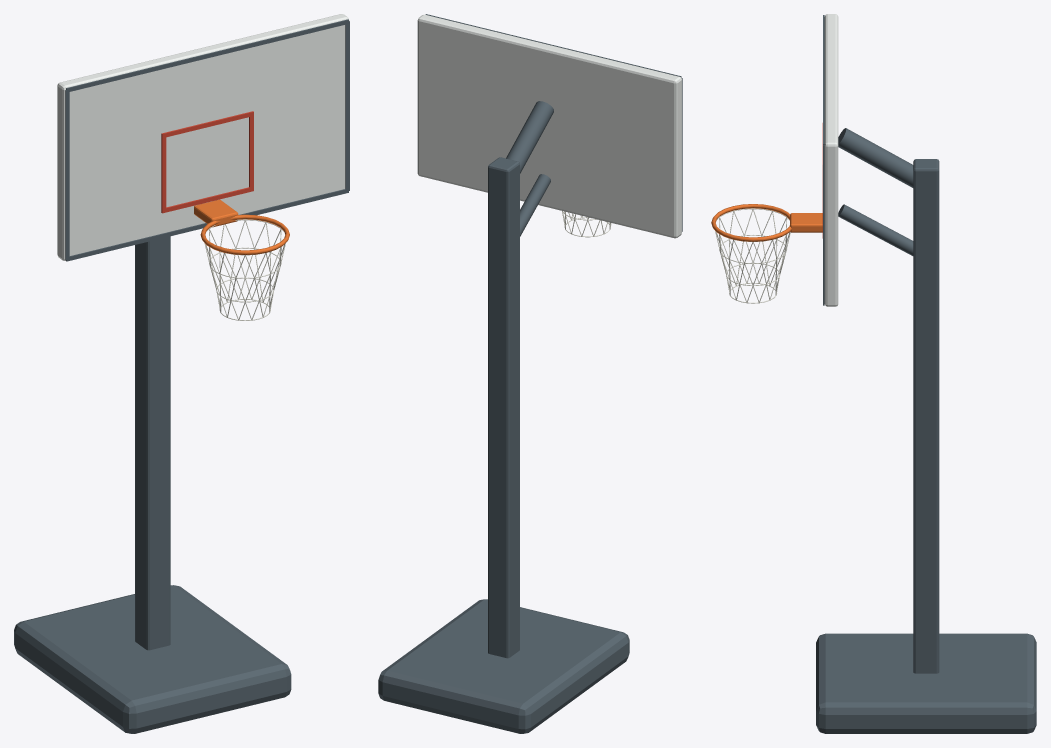
File: sports_basketball_goal.glb
3 views of the same model, side by side, from view 1: azimuth 30°, elevation 25°; view 2: azimuth 150°, elevation 25°; view 3: azimuth 270°, elevation 25° (orthographic). The views are drawn at different scales.
Parts seen in each view (by area): view 1: Rectangular basketball backboard, Weighted portable goal base, Upright basketball support, Backboard outside horizontal line.001, Backboard outside horizontal line, Orange basketball hoop, Backboard outside vertical line, Backboard outside vertical line.001, Rim mounting bracket; view 2: Rectangular basketball backboard, Weighted portable goal base, Upright basketball support, Backboard upper support, Backboard lower brace; view 3: Weighted portable goal base, Upright basketball support, Rectangular basketball backboard, Backboard upper support, Backboard lower brace, Orange basketball hoop, Rim mounting bracket.
Boxes of the visible parts, x1,y1,x2,y2 form: Rectangular basketball backboard: (57,14,349,260); Weighted portable goal base: (14,585,291,733); Upright basketball support: (135,236,170,650); Backboard outside horizontal line.001: (66,19,348,92); Backboard outside horizontal line: (66,189,348,261); Orange basketball hoop: (200,214,289,255); Backboard outside vertical line: (65,90,69,259); Backboard outside vertical line.001: (345,21,349,191); Rim mounting bracket: (194,199,238,227); Rectangular basketball backboard: (417,14,681,238); Weighted portable goal base: (378,599,629,733); Upright basketball support: (488,157,519,658); Backboard upper support: (506,101,553,173); Backboard lower brace: (520,174,550,236); Weighted portable goal base: (816,633,1036,733); Upright basketball support: (913,159,939,673); Rectangular basketball backboard: (824,14,838,306); Backboard upper support: (838,128,913,187); Backboard lower brace: (838,204,913,255); Orange basketball hoop: (711,204,791,241); Rim mounting bracket: (790,213,822,232).
Size of the model in its own units: 1.8 by 3.98 by 1.89.
